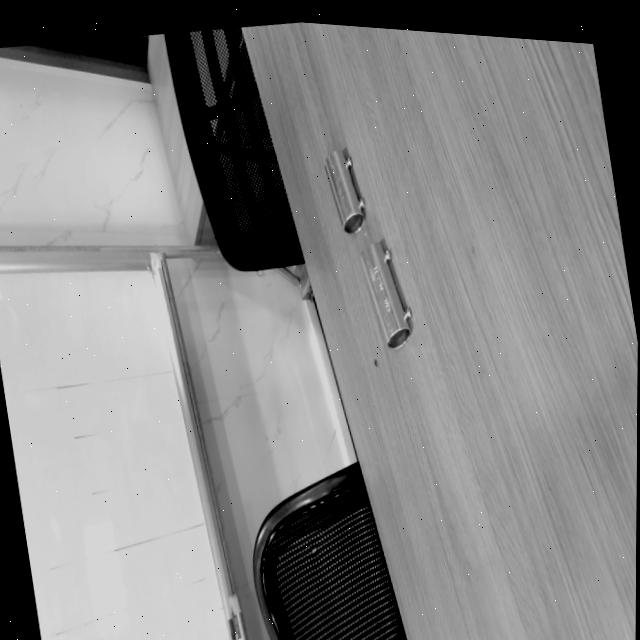Co_Lon: (353, 238, 421, 351)
Co_Nho: (321, 146, 372, 235)
